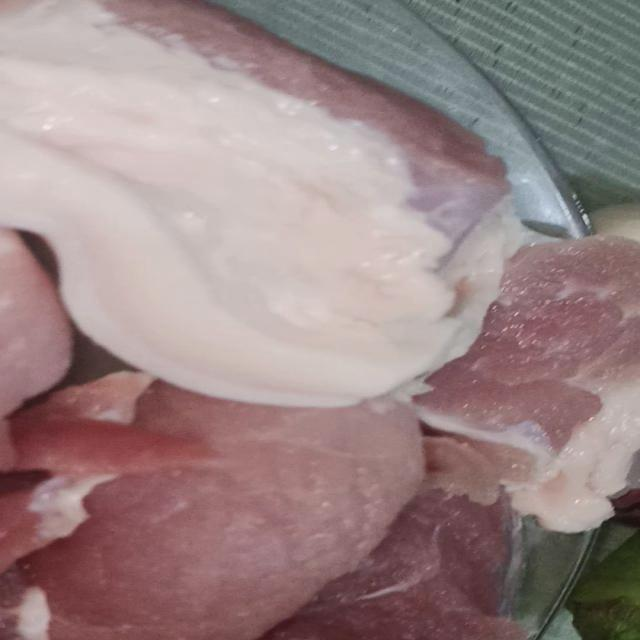pork: (0, 0, 519, 397), (0, 356, 423, 640), (418, 207, 640, 545), (228, 440, 569, 640)
